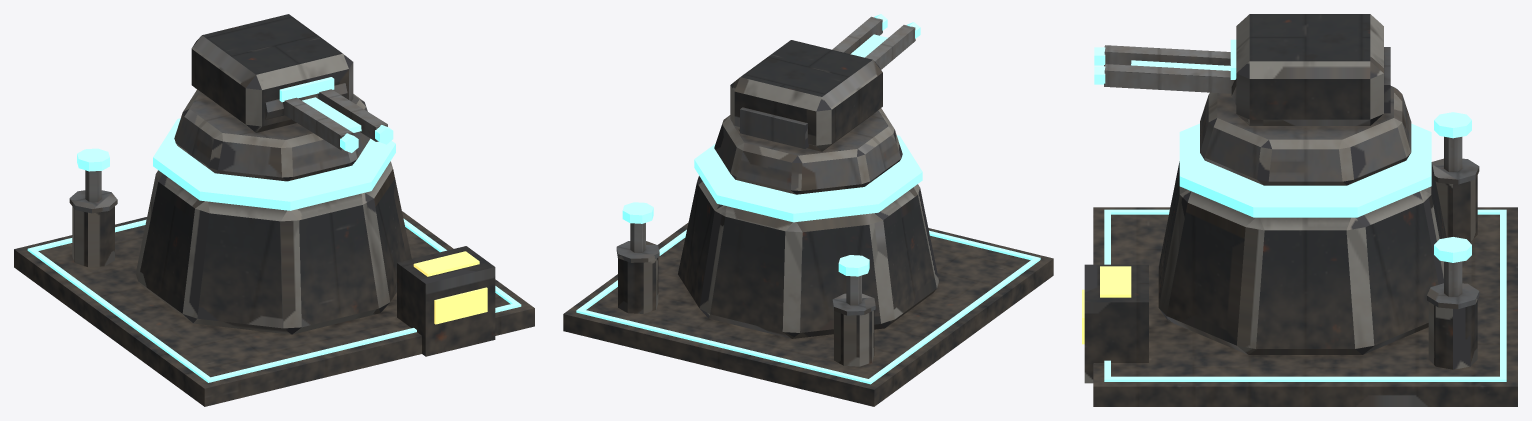
File: torre_defesa.glb
The picture shows the model from 3 angles, left to right: view 1: azimuth 30°, elevation 25°; view 2: azimuth 150°, elevation 25°; view 3: azimuth 270°, elevation 25°; orthographic projection. The views are drawn at different scales.
Visible parts, largest first — view 1: torre_defesa_base, torre_defesa_giro, torre_defesa_canhao, torre_defesa_pistao0; view 2: torre_defesa_base, torre_defesa_giro, torre_defesa_canhao, torre_defesa_pistao0, torre_defesa_pistao1; view 3: torre_defesa_base, torre_defesa_giro, torre_defesa_canhao, torre_defesa_pistao0, torre_defesa_pistao1.
Boxes of the visible parts, x1,y1,x2,y2 form: torre_defesa_base: (14,118,534,406); torre_defesa_giro: (174,14,370,181); torre_defesa_canhao: (265,83,393,152); torre_defesa_pistao0: (77,148,109,201); torre_defesa_base: (563,135,1053,406); torre_defesa_giro: (714,40,902,194); torre_defesa_canhao: (832,14,920,69); torre_defesa_pistao0: (838,255,869,305); torre_defesa_pistao1: (622,202,653,252); torre_defesa_base: (1082,123,1517,406); torre_defesa_giro: (1200,14,1411,185); torre_defesa_canhao: (1094,45,1236,104); torre_defesa_pistao0: (1434,112,1471,171); torre_defesa_pistao1: (1434,237,1471,296).
Bounding box in the file's own units: 1.9 × 1.38 × 1.95.
3 materials, 1 textured.
